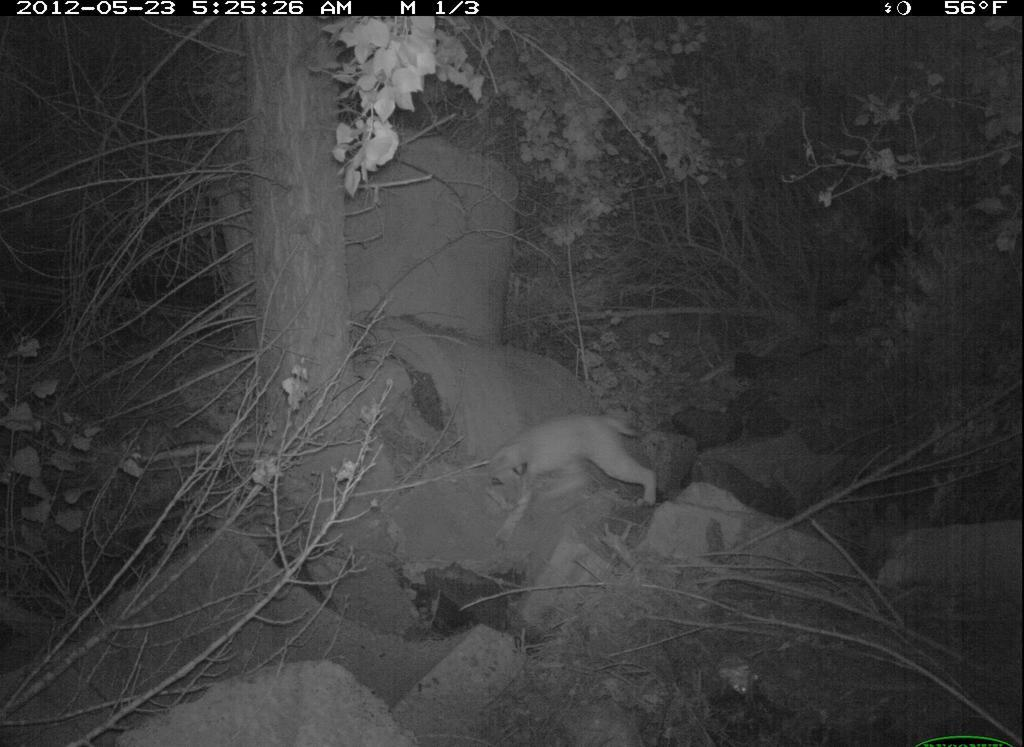bobcat: (474, 397, 670, 546)
